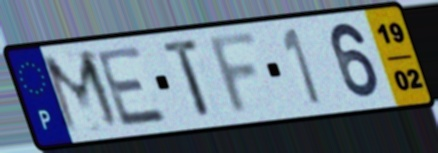1: (281, 26, 326, 108)
6: (329, 21, 382, 102)
E: (91, 43, 172, 130)
F: (205, 27, 265, 120)
M: (36, 47, 127, 138)
T: (160, 35, 214, 122)
